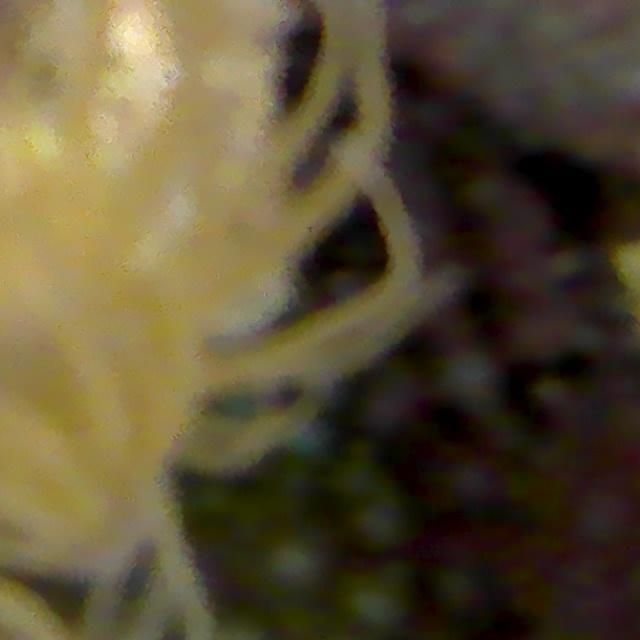SeaGrape: (260, 531, 332, 603), (347, 488, 415, 556), (437, 346, 503, 413)
